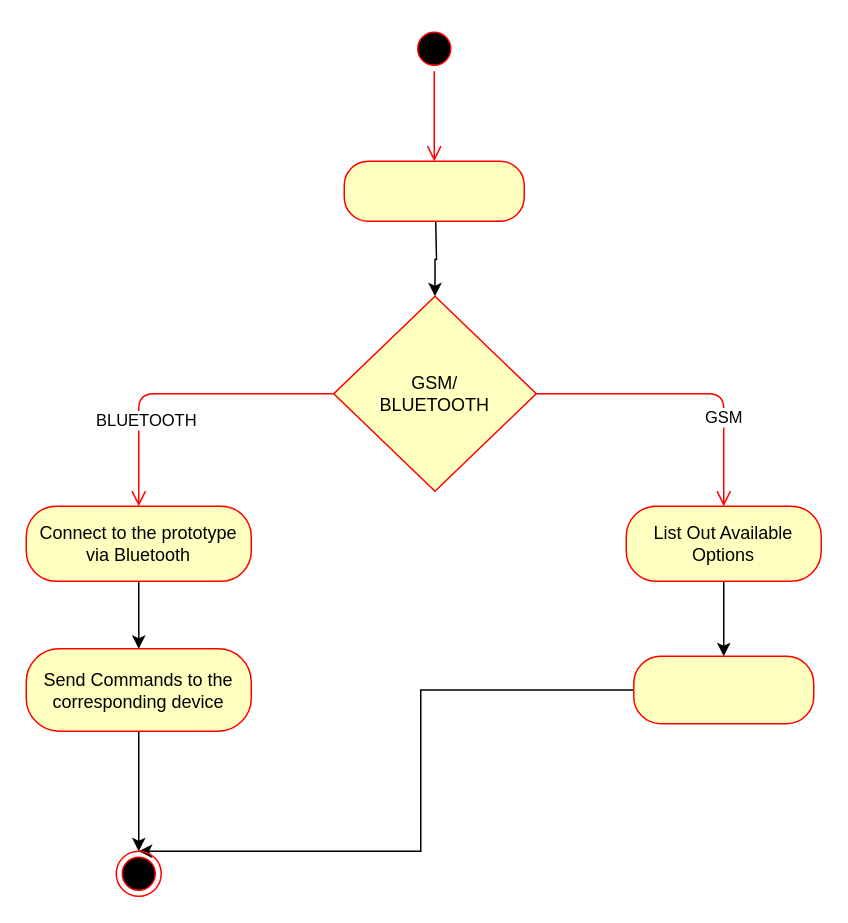
This 848x923 diagram has some shape labels left out. Here are the shapes that lost their labels. From the top down, the centre of each, then its label:
At pixel 433 190: "Authenticate".
At pixel 723 689: "Send SMS".
